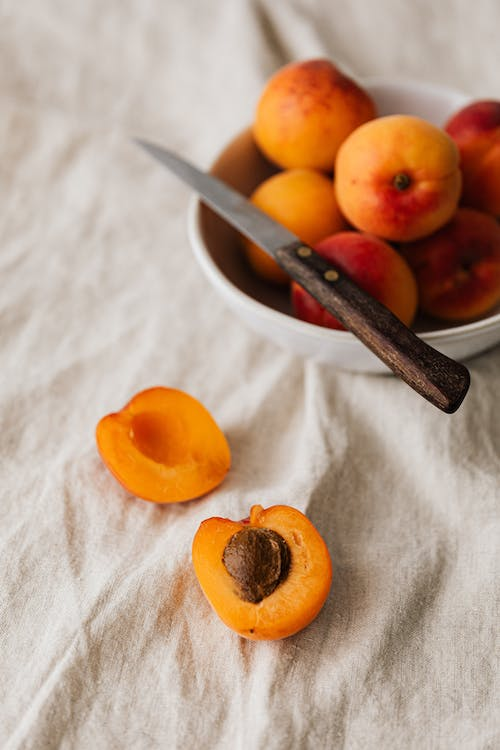knife: (127, 133, 476, 418)
